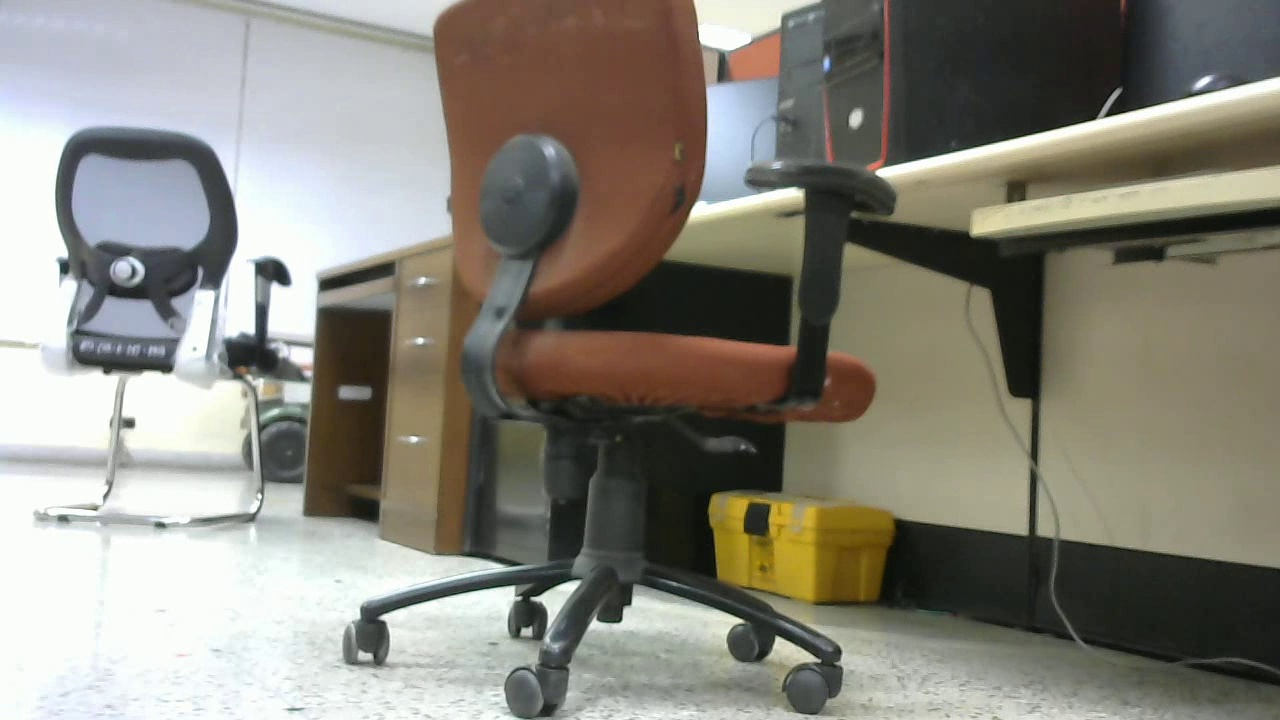chair: (339, 1, 908, 718), (20, 109, 287, 538)
